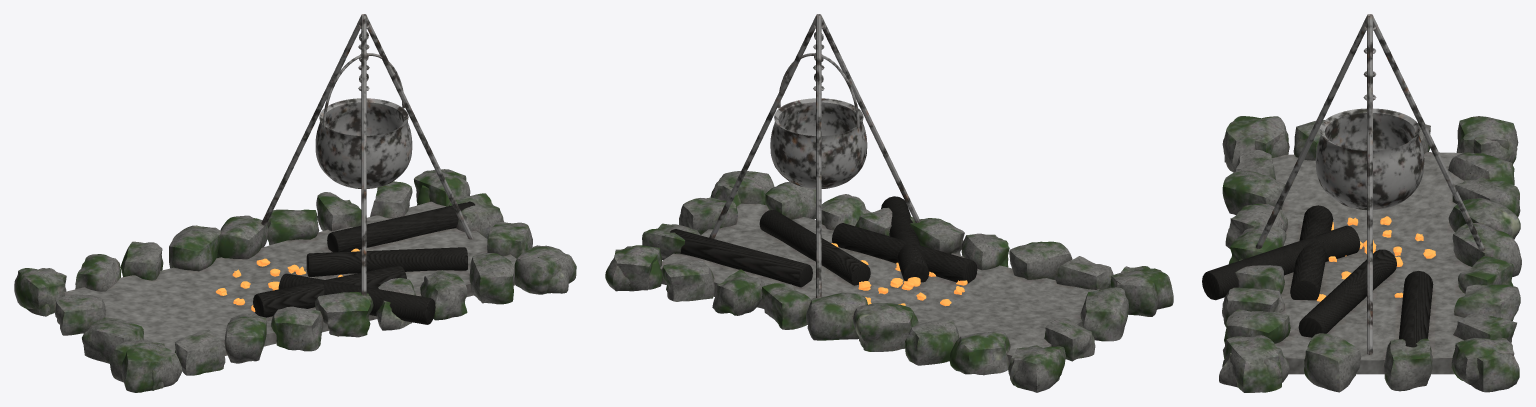
File: hearth_long.glb
3 views of the same model, side by side, from view 1: azimuth 30°, elevation 25°; view 2: azimuth 150°, elevation 25°; view 3: azimuth 270°, elevation 25° (orthographic). The views are drawn at different scales.
Visible parts, largest first — view 1: hearth_long; view 2: hearth_long; view 3: hearth_long.
Part boxes in pixels (bbox=[...]): hearth_long: bbox=[14, 14, 576, 392]; hearth_long: bbox=[605, 14, 1173, 392]; hearth_long: bbox=[1202, 14, 1521, 392].
Size of the model in its own units: 2.28 by 1.26 by 1.25.
Materials: 2 (1 with a texture image).
